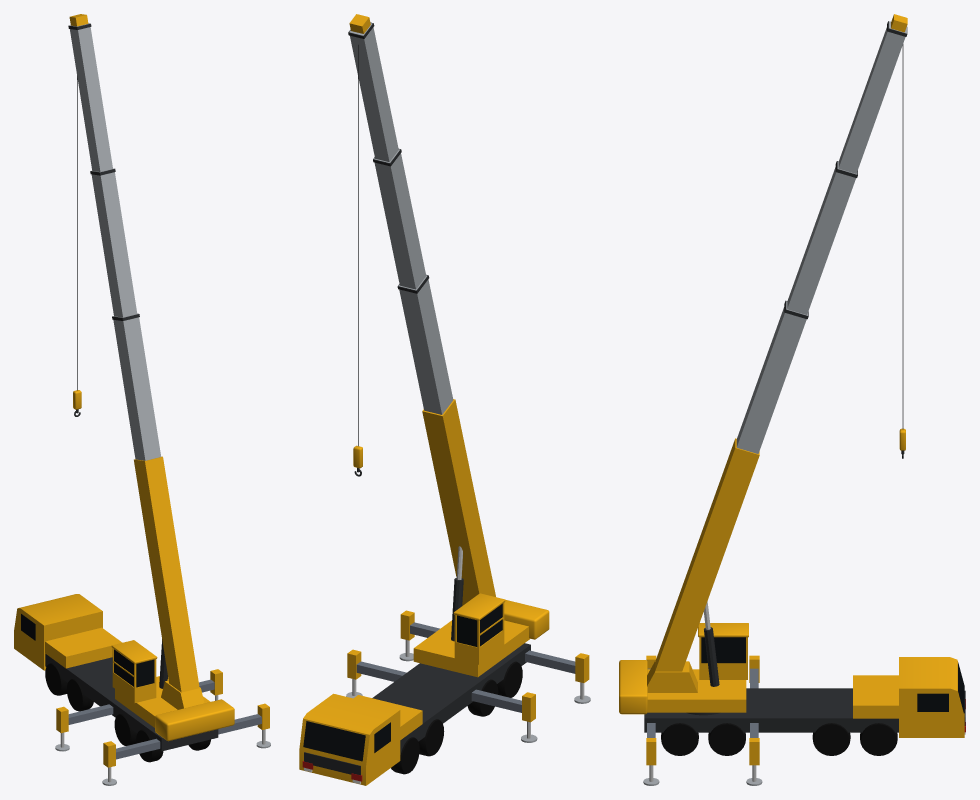
The model's file is plant.lifting.mobile_crane_4_axle.glb.
3 renders of one model, left to right at view 1: azimuth 30°, elevation 25°; view 2: azimuth 150°, elevation 25°; view 3: azimuth 270°, elevation 25°, orthographic. The views are drawn at different scales.
Parts seen in each view (by area): view 1: boom__steel_galvanised, boom__plant_yellow, carrier__plant_yellow, upper__plant_yellow, carrier__steel_dark, wheels__rubber, outriggers__steel_painted, outriggers__plant_yellow, upper__glass_dark, boom__steel_dark; view 2: boom__steel_galvanised, boom__plant_yellow, upper__plant_yellow, carrier__plant_yellow, carrier__steel_dark, wheels__rubber, outriggers__steel_painted, carrier__glass_dark, outriggers__plant_yellow, upper__glass_dark, boom__steel_dark; view 3: boom__steel_galvanised, boom__plant_yellow, upper__plant_yellow, carrier__steel_dark, carrier__plant_yellow, wheels__rubber, upper__glass_dark, boom__steel_dark, outriggers__plant_yellow, carrier__glass_dark, hook__steel_dark.
Boxes of the visible parts, left/top/right/bottom form: boom__steel_galvanised: left=70, top=23, right=161, bottom=460; boom__plant_yellow: left=69, top=14, right=199, bottom=692; carrier__plant_yellow: left=14, top=594, right=122, bottom=670; upper__plant_yellow: left=111, top=640, right=234, bottom=741; carrier__steel_dark: left=45, top=654, right=218, bottom=751; wheels__rubber: left=45, top=663, right=210, bottom=762; outriggers__steel_painted: left=68, top=679, right=261, bottom=759; outriggers__plant_yellow: left=56, top=669, right=269, bottom=767; upper__glass_dark: left=114, top=649, right=154, bottom=687; boom__steel_dark: left=68, top=23, right=167, bottom=688; boom__steel_galvanised: left=349, top=23, right=453, bottom=414; boom__plant_yellow: left=349, top=14, right=495, bottom=605; upper__plant_yellow: left=413, top=593, right=549, bottom=677; carrier__plant_yellow: left=299, top=693, right=422, bottom=785; carrier__steel_dark: left=304, top=643, right=530, bottom=775; wheels__rubber: left=391, top=661, right=522, bottom=774; outriggers__steel_painted: left=356, top=622, right=575, bottom=712; carrier__glass_dark: left=303, top=721, right=390, bottom=761; outriggers__plant_yellow: left=347, top=610, right=589, bottom=722; upper__glass_dark: left=457, top=604, right=502, bottom=646; boom__steel_dark: left=348, top=22, right=463, bottom=641; boom__steel_galvanised: left=736, top=21, right=906, bottom=453; boom__plant_yellow: left=655, top=14, right=907, bottom=671; upper__plant_yellow: left=619, top=623, right=748, bottom=714; carrier__steel_dark: left=644, top=688, right=965, bottom=732; carrier__plant_yellow: left=853, top=657, right=964, bottom=737; wheels__rubber: left=661, top=723, right=897, bottom=755; upper__glass_dark: left=701, top=637, right=745, bottom=663; boom__steel_dark: left=704, top=21, right=907, bottom=686; outriggers__plant_yellow: left=646, top=655, right=759, bottom=765; carrier__glass_dark: left=917, top=663, right=964, bottom=713; hook__steel_dark: left=901, top=44, right=904, bottom=458.
Bounding box in the file's own units: 7.35 × 28.05 × 12.12.
